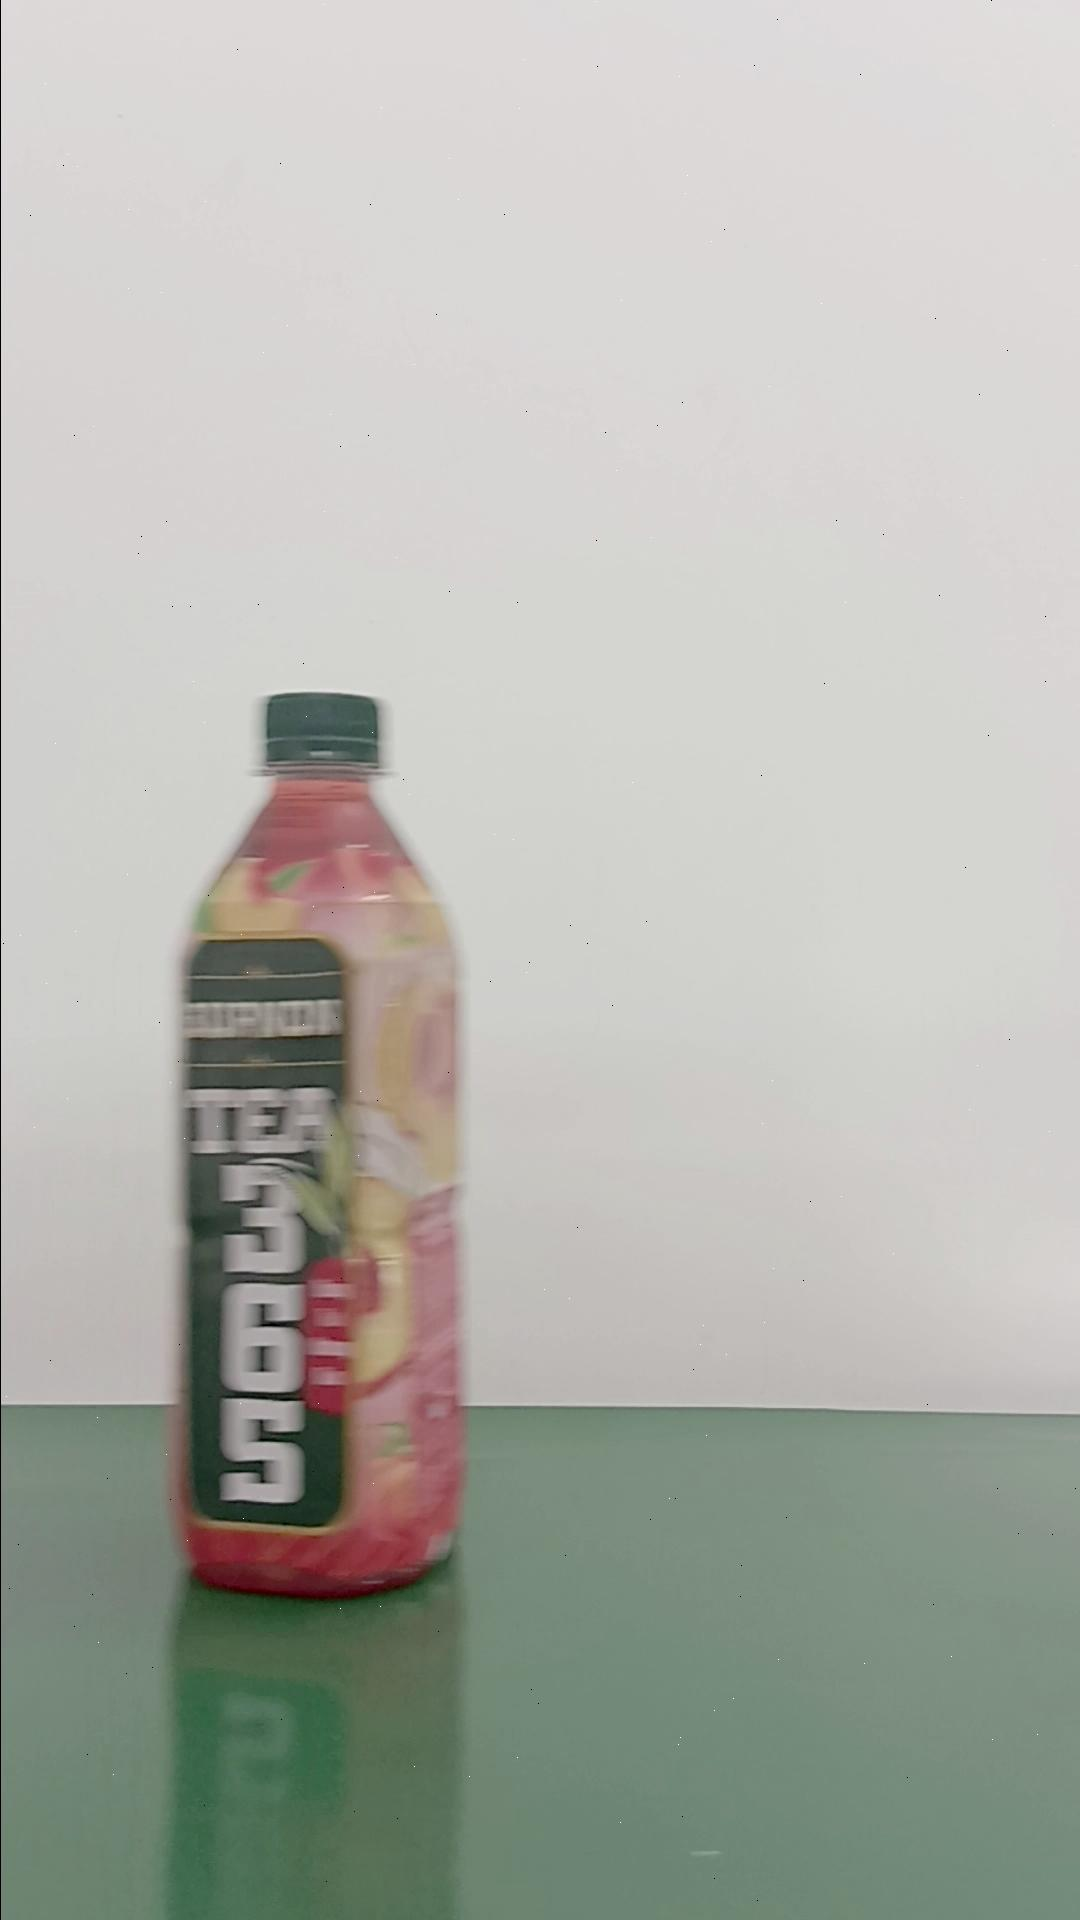khong loi: (165, 688, 469, 1600)
